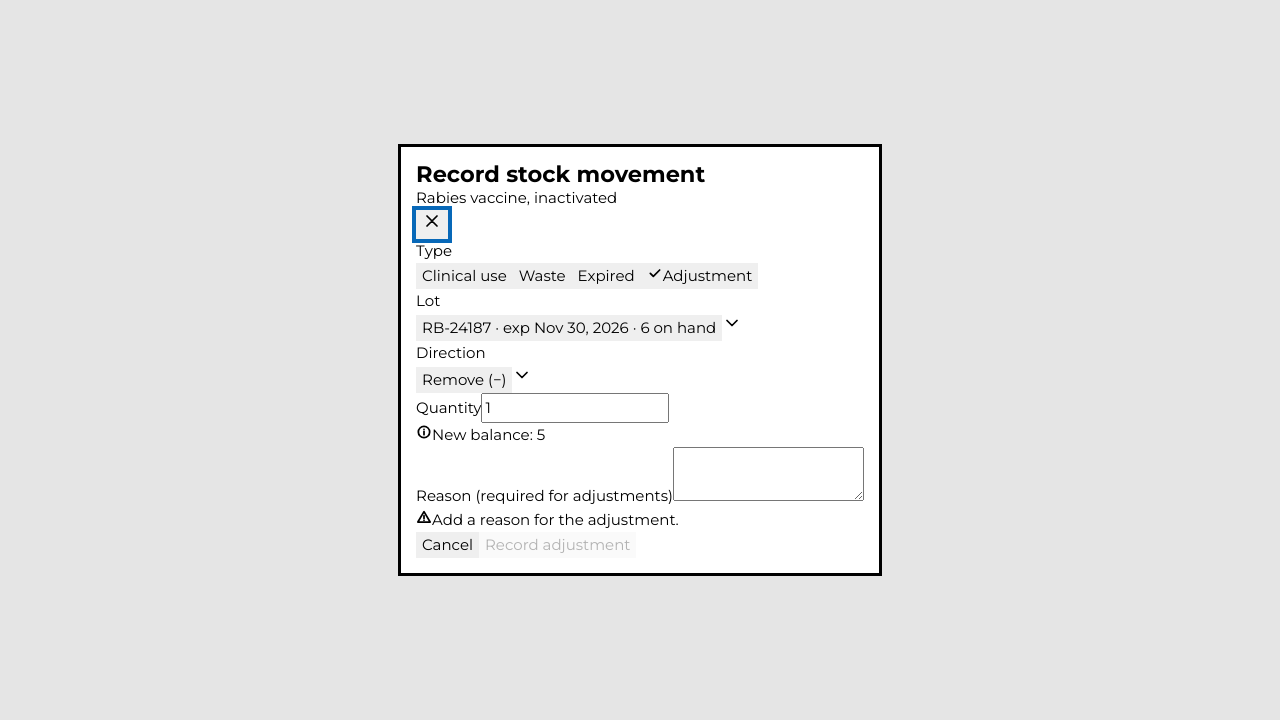
Test: StockMovementModal direction › goes back to removing stock after adding
What coordinates should you click on to do the following:
click the dropdown named "Direction"
I would click on:
 (464, 380)
Its box is [416,367,512,393].
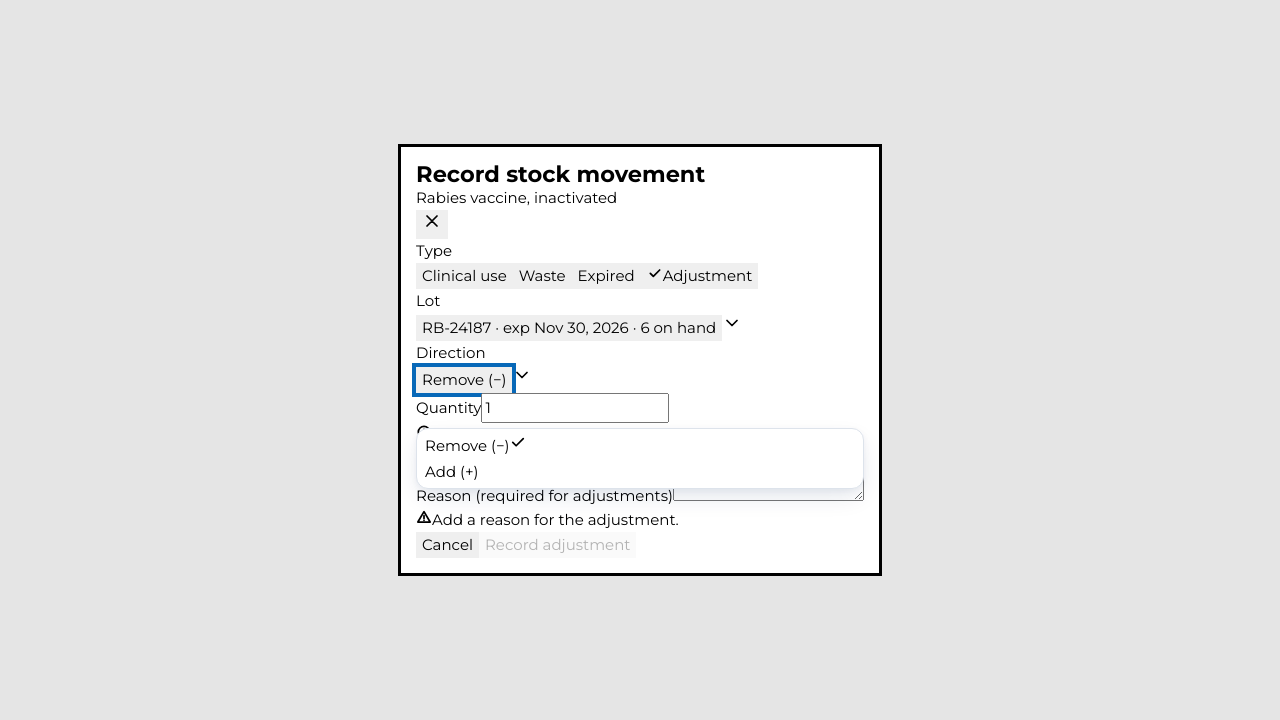
What coordinates should you click on to do the following:
click the option "Add (+)"
I would click on:
 (452, 471)
Its box is [425,462,479,480].
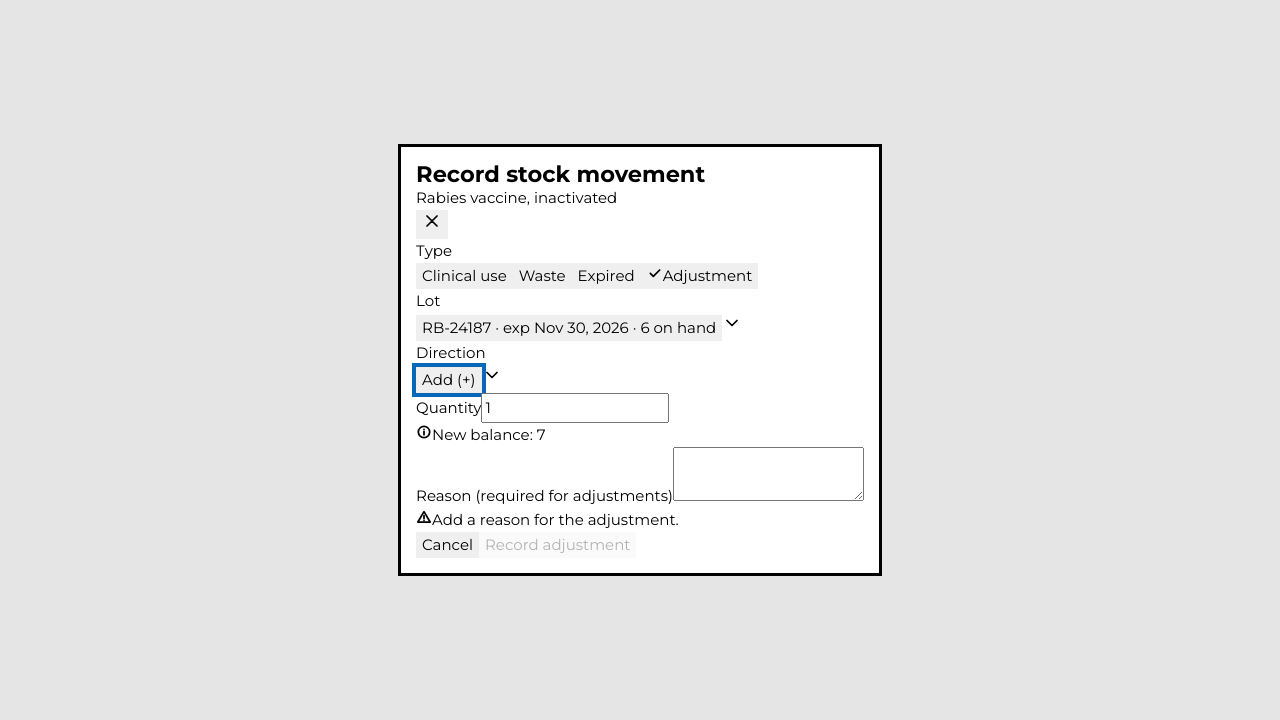
What coordinates should you click on to do the following:
click the dropdown named "Direction"
I would click on:
 (449, 380)
Its box is [416,367,482,393].
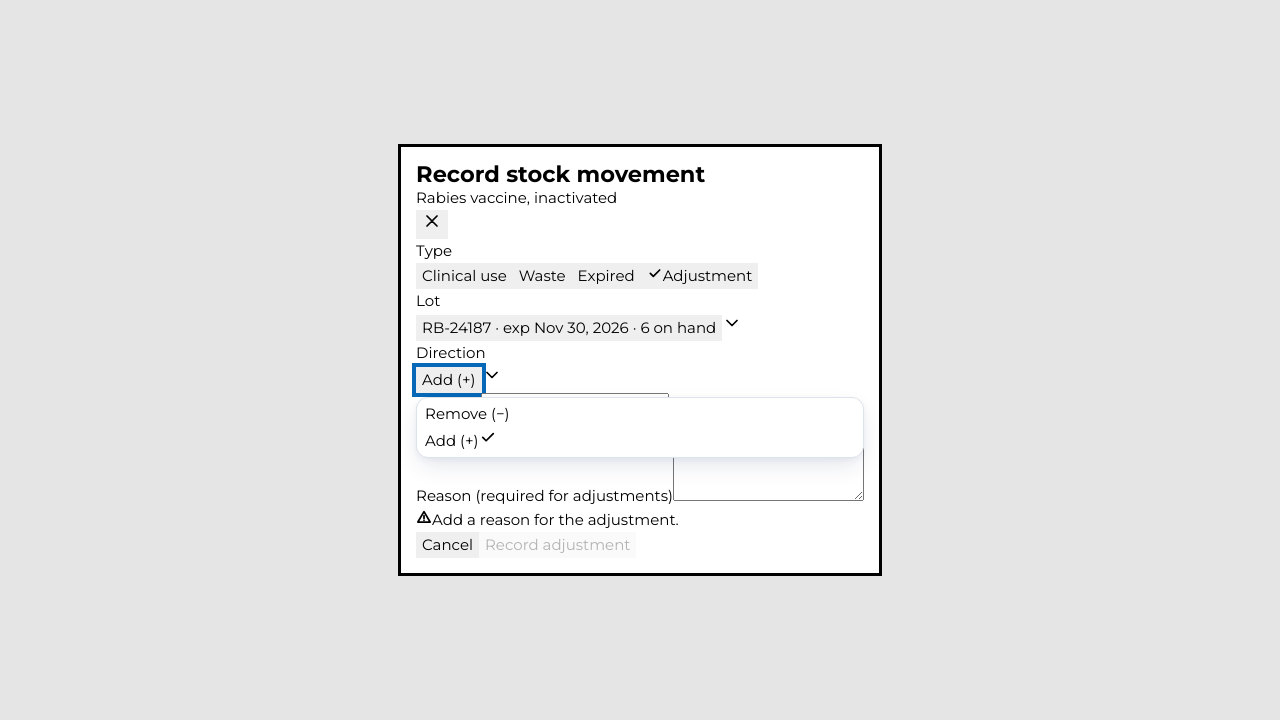
What coordinates should you click on to do the following:
click the option "Remove (−)"
I would click on:
 (467, 414)
Its box is [425,404,510,423].
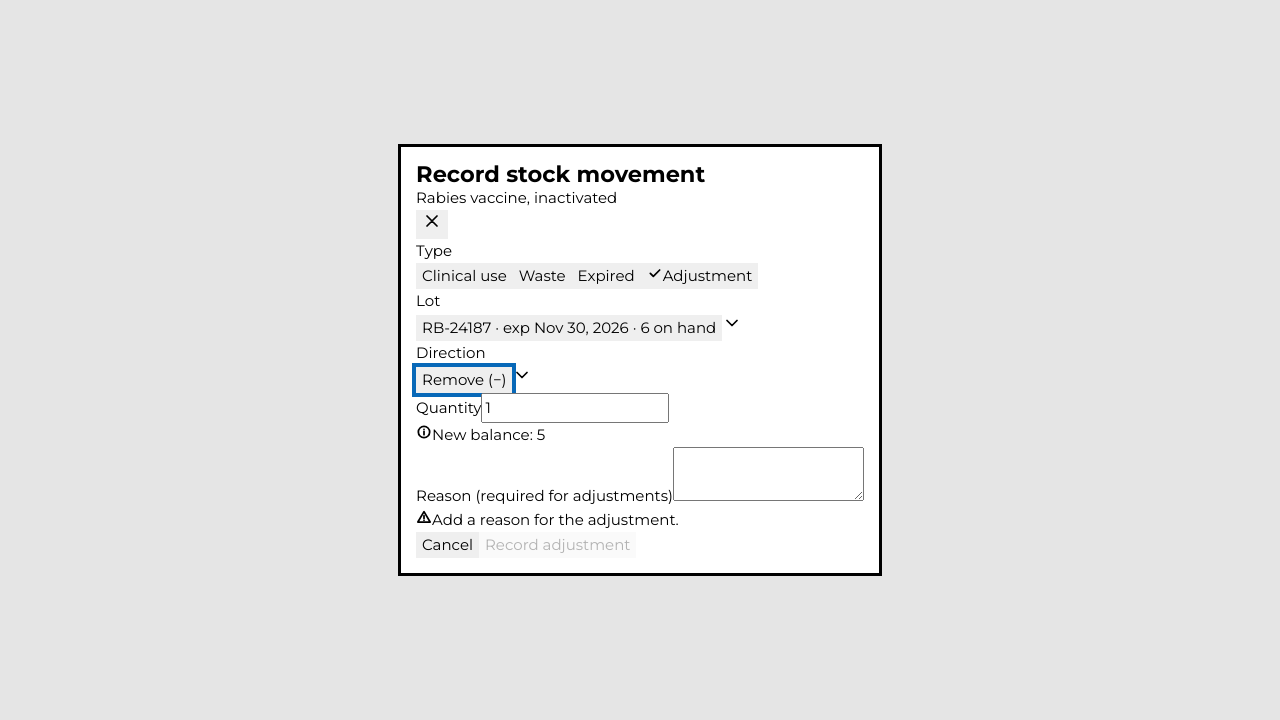
Check: the text "New balance: 5" is shown, box [432,425,545,444]
